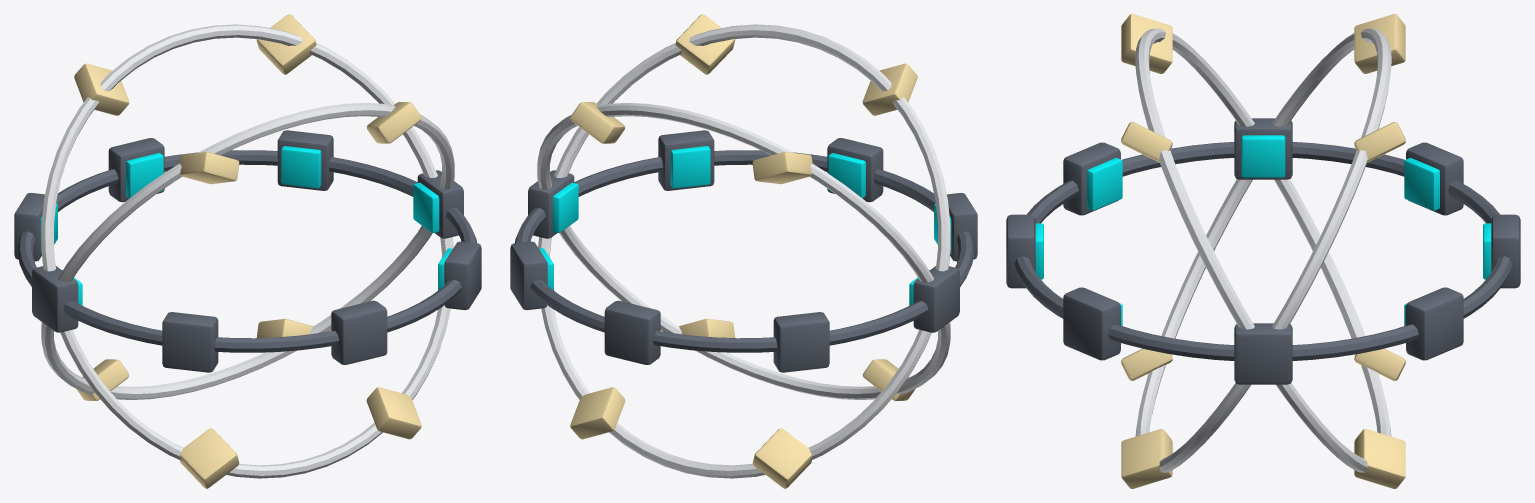
The model's file is compression_shell.glb.
The picture shows the model from 3 angles, left to right: view 1: azimuth 30°, elevation 25°; view 2: azimuth 150°, elevation 25°; view 3: azimuth 270°, elevation 25°; orthographic projection. The views are drawn at different scales.
Parts seen in each view (by area): view 1: Torus; view 2: Torus; view 3: Torus.
Part boxes in pixels (x1=…): Torus: x1=14, y1=14, x2=481, y2=488; Torus: x1=510, y1=14, x2=977, y2=488; Torus: x1=1006, y1=14, x2=1520, y2=488.
Size of the model in its own units: 2.12 by 1.79 by 2.12.
